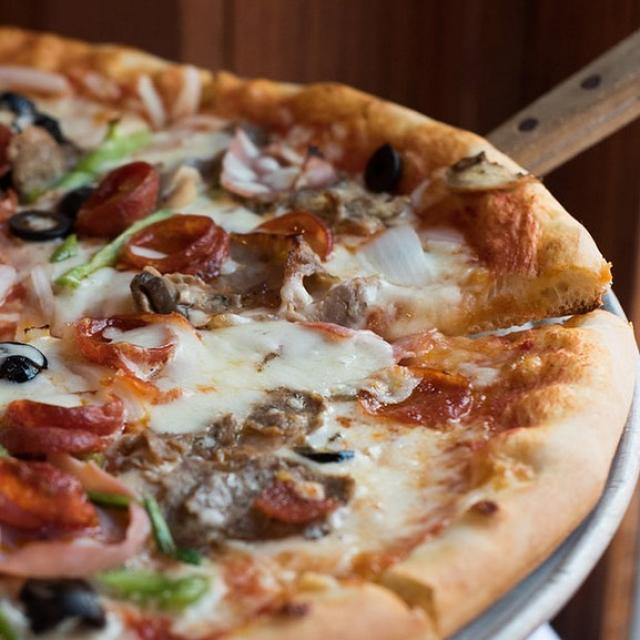black_olives: (19, 569, 109, 634), (0, 84, 68, 141), (0, 336, 53, 390), (9, 204, 73, 248), (358, 140, 406, 196), (284, 438, 357, 466), (54, 183, 98, 216)
mushrooms: (124, 267, 261, 328), (439, 149, 543, 197)
pepperoni: (70, 308, 193, 374), (0, 458, 100, 536), (121, 214, 234, 282), (358, 363, 477, 426), (4, 398, 130, 454), (225, 208, 333, 272), (74, 162, 160, 240), (252, 465, 354, 521), (0, 123, 17, 193)
pizza: (0, 24, 640, 640)
